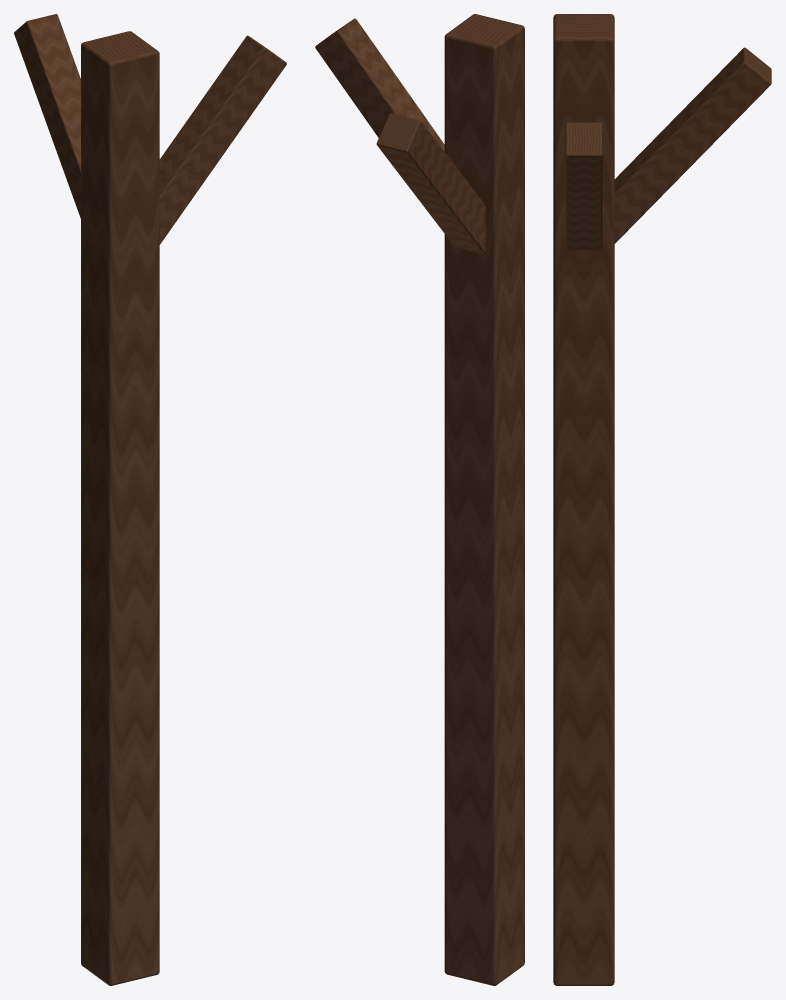
File: corner_post.glb
The picture shows the model from 3 angles, left to right: view 1: azimuth 30°, elevation 25°; view 2: azimuth 150°, elevation 25°; view 3: azimuth 270°, elevation 25°; orthographic projection. The views are drawn at different scales.
Parts seen in each view (by area): view 1: corner_post; view 2: corner_post; view 3: corner_post.
Boxes of the visible parts, x1,y1,x2,y2 form: corner_post: (14,14,286,985); corner_post: (315,14,524,985); corner_post: (553,14,771,985).
Bounding box in the file's own units: 0.5 × 2.4 × 0.5.
1 material, 1 textured.
